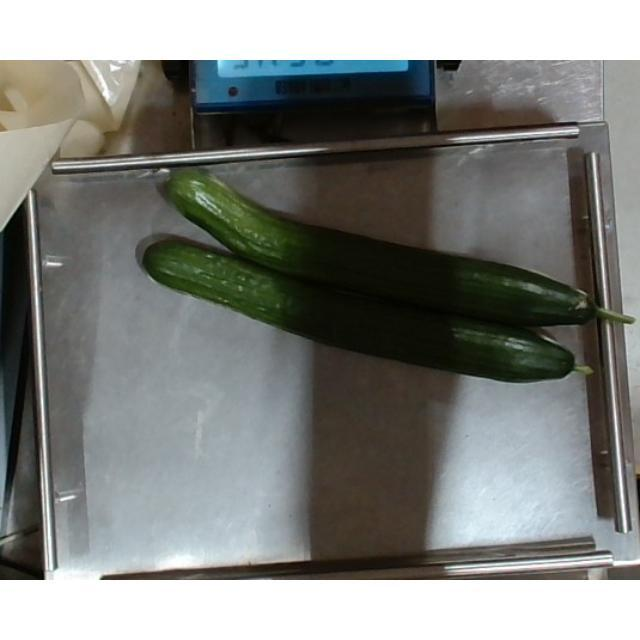cucumber: (163, 165, 637, 348), (135, 234, 597, 386)
